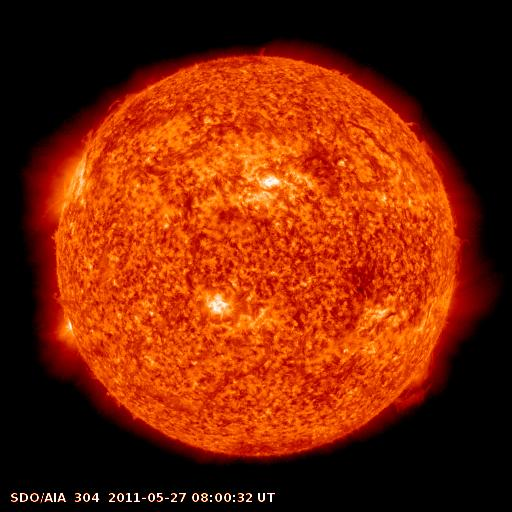prominence: (380, 346, 443, 416), (75, 86, 149, 145), (445, 222, 479, 293), (398, 112, 444, 160), (49, 287, 76, 316)
